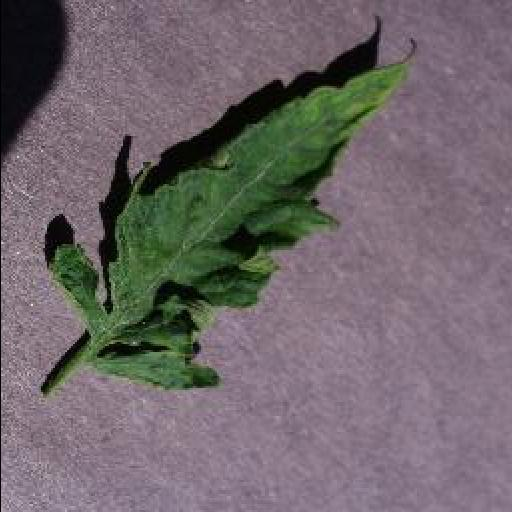Mosaic Virus: (50, 38, 418, 396)
